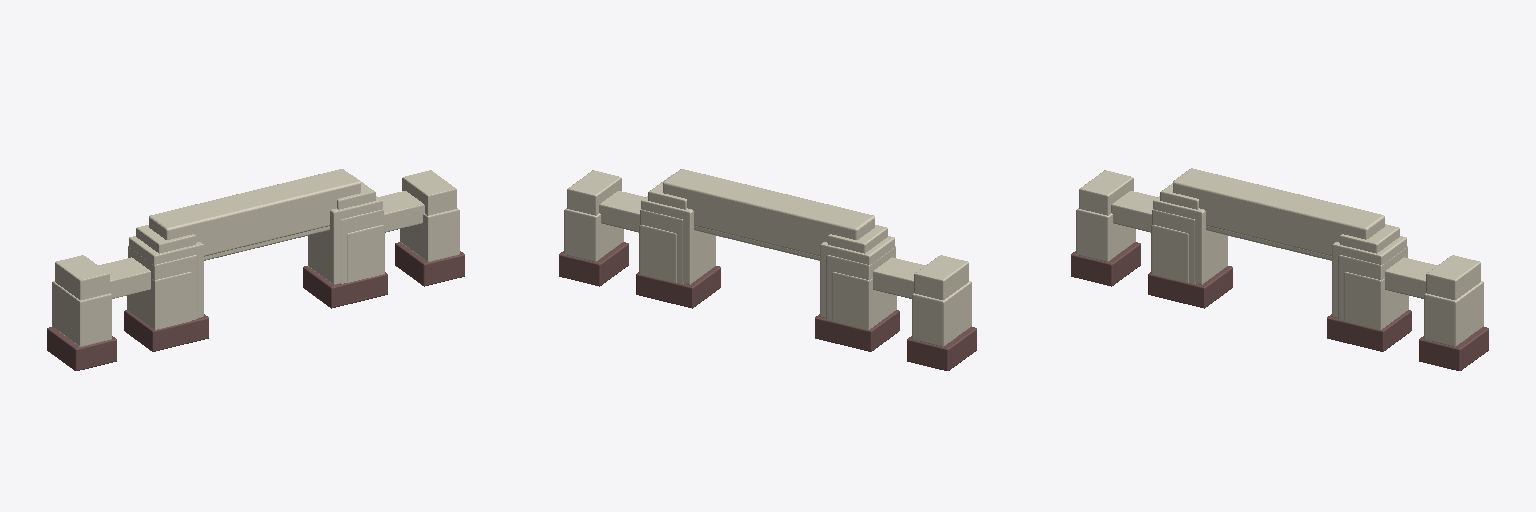
File: door.obj
3 views of the same model, side by side, from view 1: azimuth 30°, elevation 25°; view 2: azimuth 150°, elevation 25°; view 3: azimuth 330°, elevation 25° (orthographic).
Bounding box in the file's own units: 580 × 164 × 76.11.